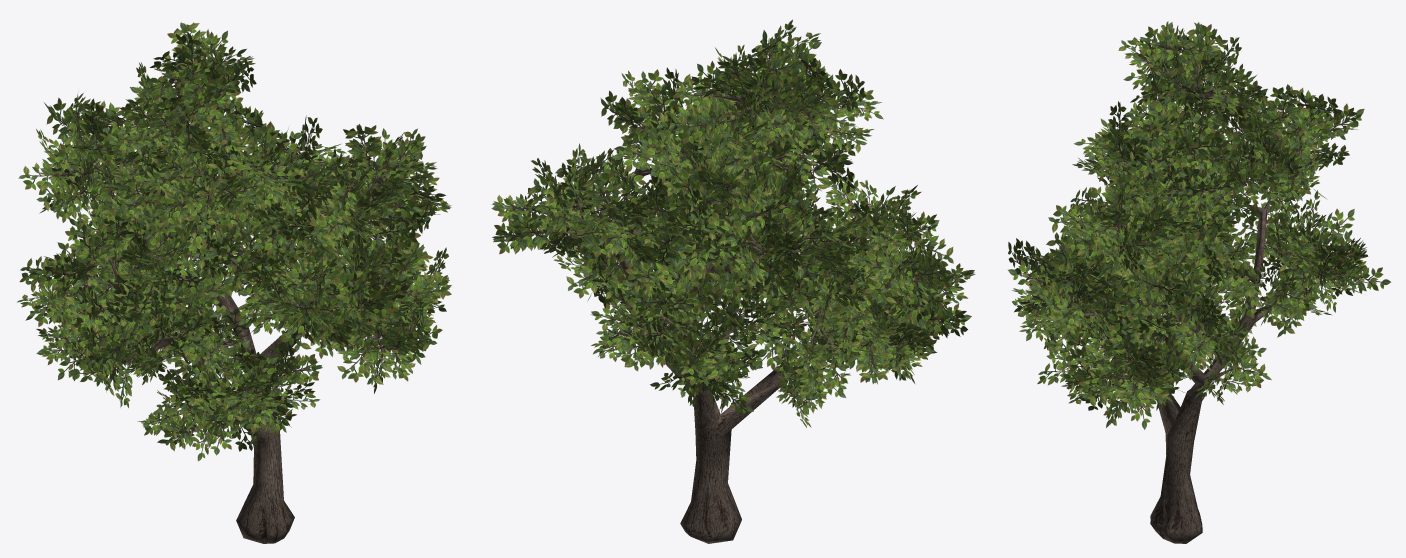
File: realistic_tree.lod1.glb
3 renders of one model, left to right at view 1: azimuth 30°, elevation 25°; view 2: azimuth 150°, elevation 25°; view 3: azimuth 270°, elevation 25°, orthographic. The views are drawn at different scales.
Visible parts, largest first — view 1: crown merged_normal leaves_0, br_low_trunk_0; view 2: crown merged_normal leaves_0, br_low_trunk_0; view 3: crown merged_normal leaves_0, br_low_trunk_0.
Part boxes in pixels (box(x1,y1,x2,y2)): crown merged_normal leaves_0: box(17, 22, 451, 461); br_low_trunk_0: box(56, 65, 414, 543); crown merged_normal leaves_0: box(491, 19, 975, 427); br_low_trunk_0: box(531, 68, 929, 543); crown merged_normal leaves_0: box(1008, 21, 1390, 429); br_low_trunk_0: box(1027, 61, 1340, 543).
Bounding box in the file's own units: 14.83 × 16.16 × 11.56.
Materials: 2 (2 with a texture image).
